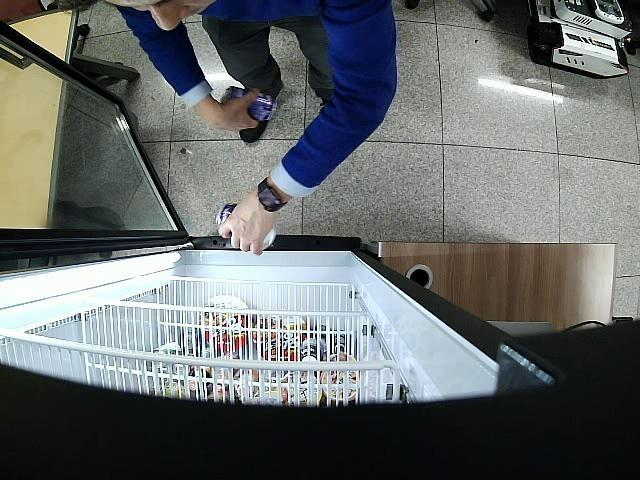14_welchsGrape: (218, 205, 276, 249), (222, 86, 278, 120)
